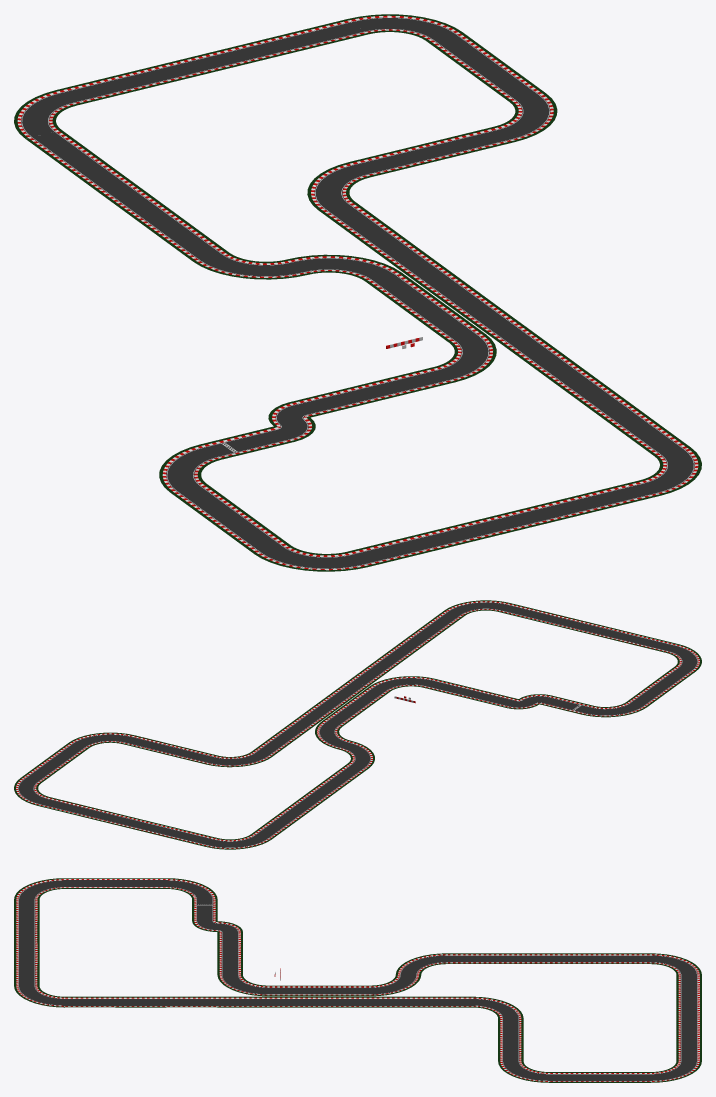
Rendered from track.glb.
3 renders of one model, top to bottom at view 1: azimuth 30°, elevation 25°; view 2: azimuth 150°, elevation 25°; view 3: azimuth 270°, elevation 25°, orthographic. The views are drawn at different scales.
Visible parts, largest first — view 1: Track_line_type_01_30m_free.002; view 2: Track_line_type_01_30m_free.002; view 3: Track_line_type_01_30m_free.002.
Boxes of the visible parts, <box> form: Track_line_type_01_30m_free.002: <box>14,14,701,571</box>; Track_line_type_01_30m_free.002: <box>14,600,701,849</box>; Track_line_type_01_30m_free.002: <box>14,878,701,1082</box>.
Bounding box in the file's own units: 284 × 1.2 × 404.
Materials: 2 (2 with a texture image).
